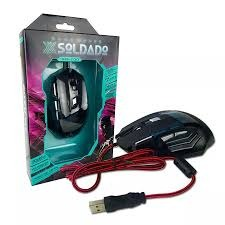mouse: (111, 105, 221, 164)
